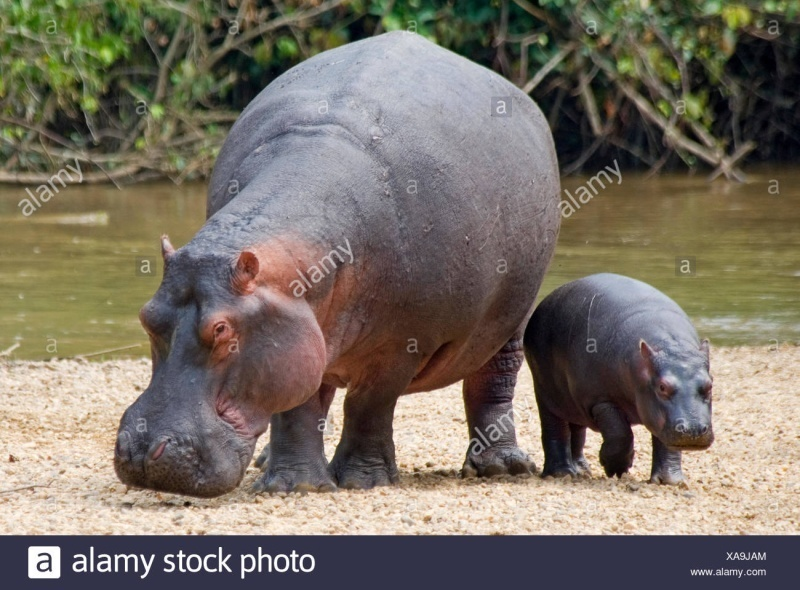hipopotamo: (112, 28, 568, 500), (515, 269, 721, 490)
